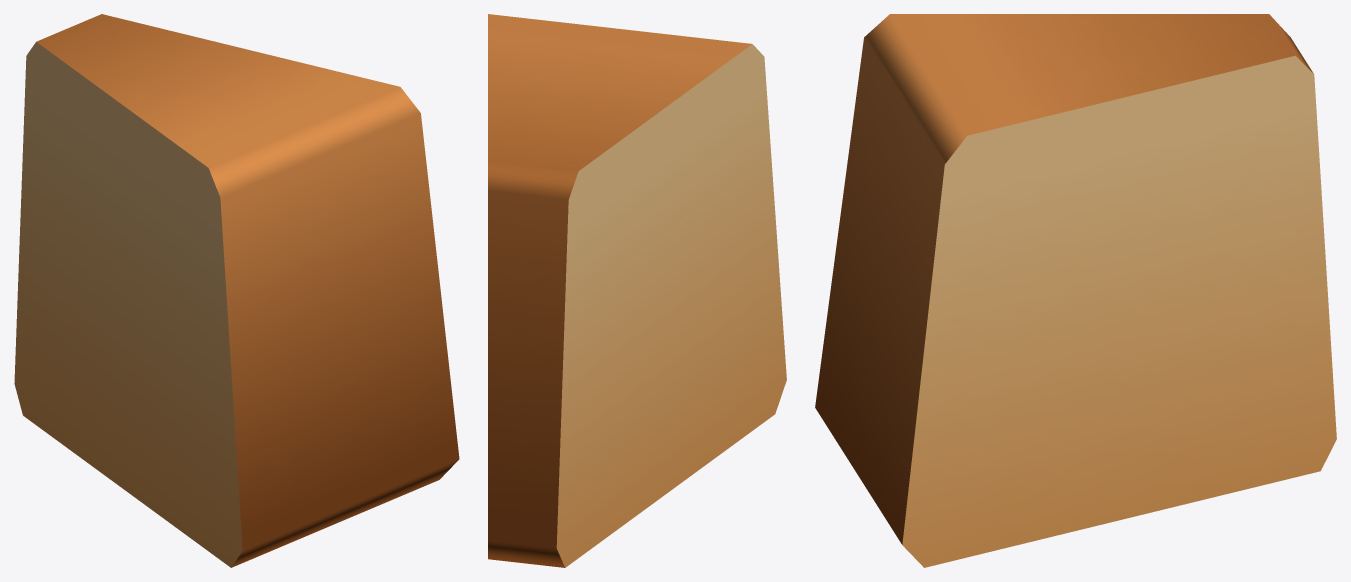
File: m_AngelFoodCake01_Slice.fbx
The picture shows the model from 3 angles, left to right: view 1: azimuth 30°, elevation 25°; view 2: azimuth 150°, elevation 25°; view 3: azimuth 270°, elevation 25°; orthographic projection. The views are drawn at different scales.
Parts seen in each view (by area): view 1: m_AngelFoodCake01_Slice; view 2: m_AngelFoodCake01_Slice; view 3: m_AngelFoodCake01_Slice.
Boxes of the visible parts, <box> form: m_AngelFoodCake01_Slice: <box>14,14,459,567</box>; m_AngelFoodCake01_Slice: <box>488,14,786,567</box>; m_AngelFoodCake01_Slice: <box>815,14,1336,567</box>.
Size of the model in its own units: 6.3 by 9 by 10.09.
